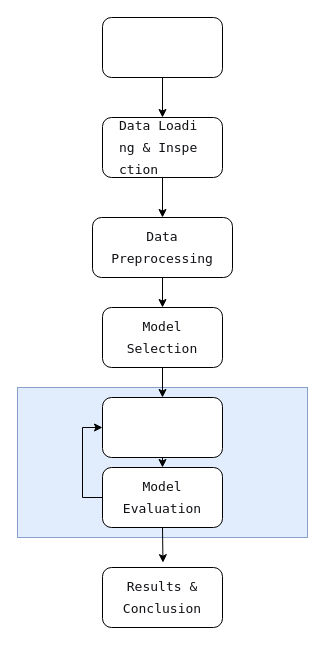
This 325x653 diagram has some shape labels left out. Here are the shapes that lost their labels. From the top down, the centre of each, then its label:
At pixel 162 47: "Data Collection".
At pixel 162 427: "Model Training".
